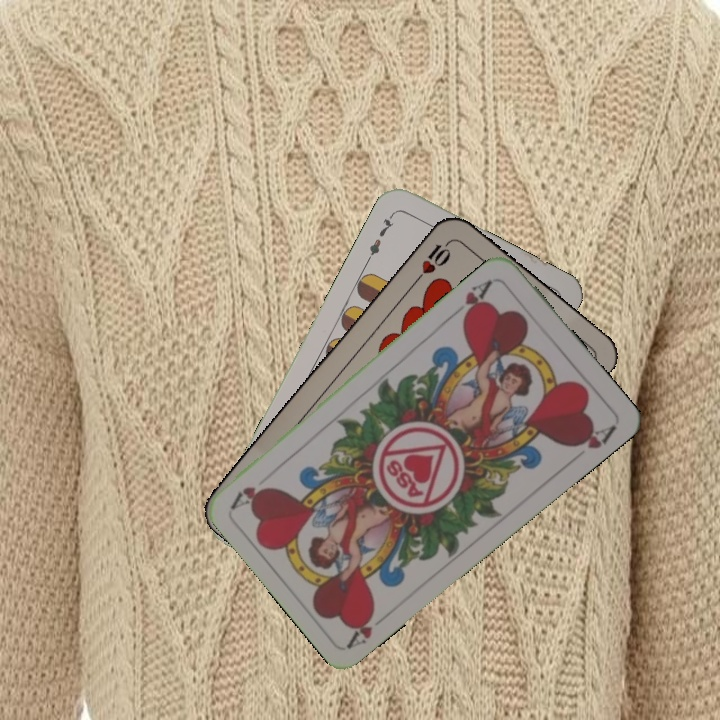E7: (363, 209, 398, 263)
H10: (410, 237, 454, 287)
HA: (448, 275, 496, 325), (344, 605, 395, 650)
